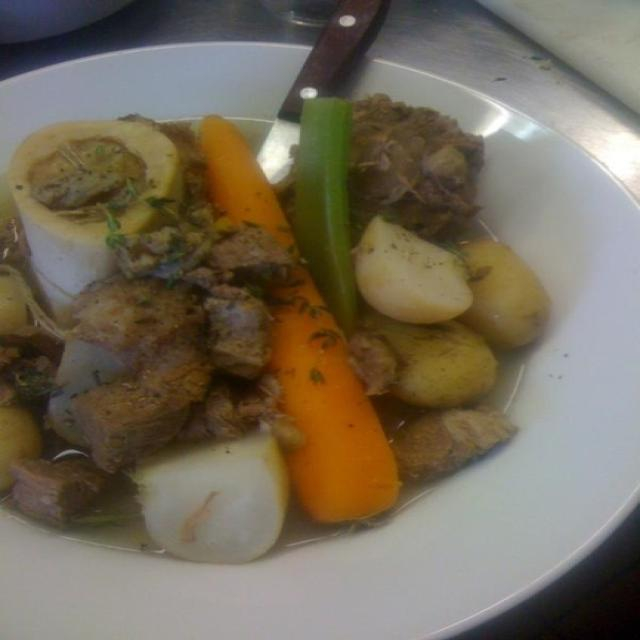汤锅炖物: (6, 44, 612, 618)
